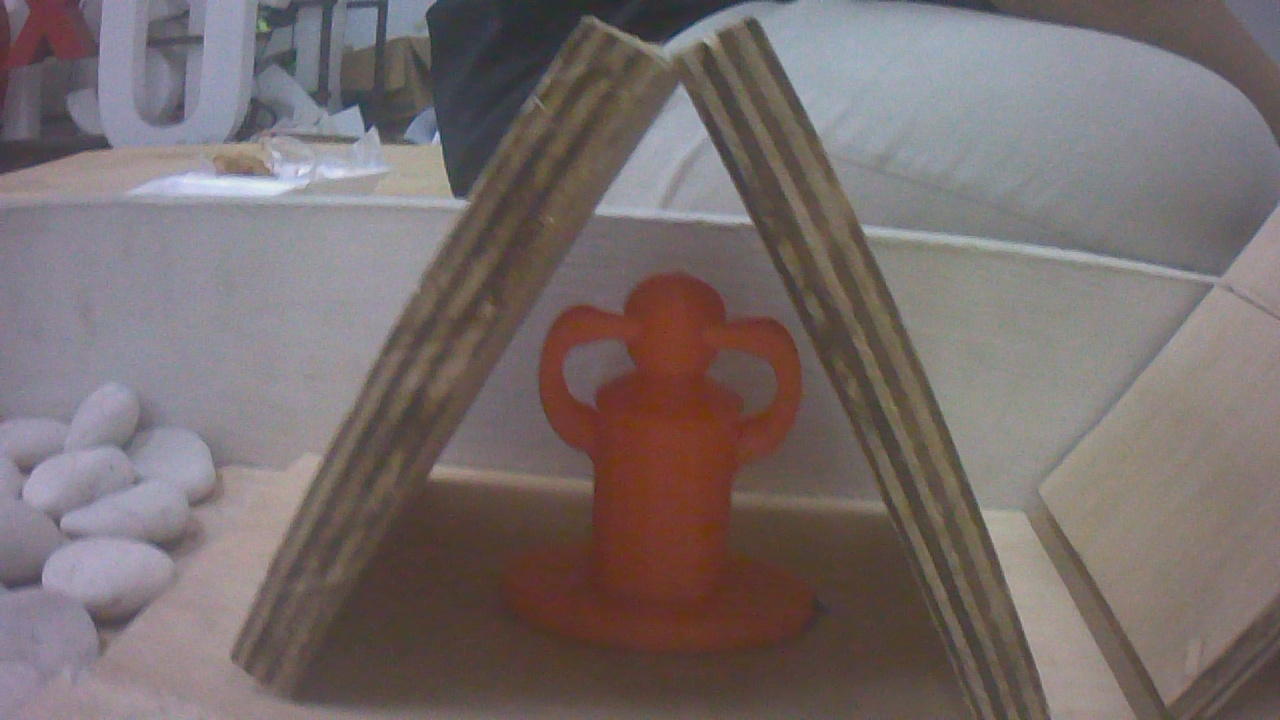real: (512, 274, 819, 650)
